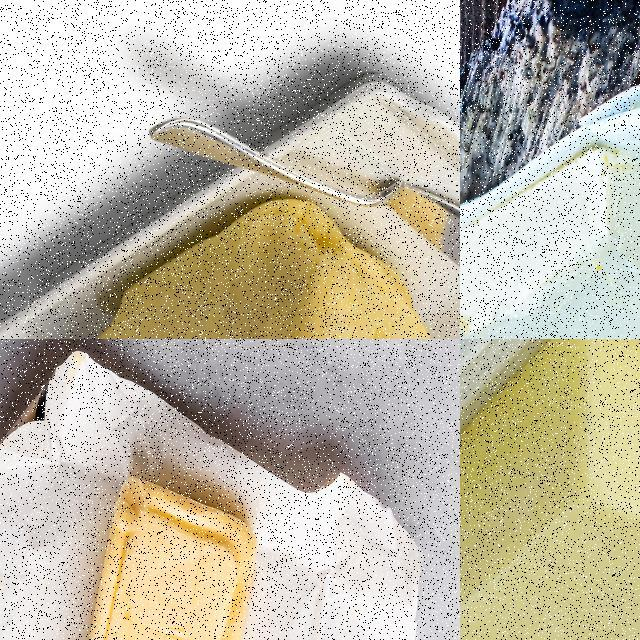Butter: (460, 339, 639, 639), (70, 195, 438, 338), (64, 468, 265, 639), (460, 148, 639, 338)
